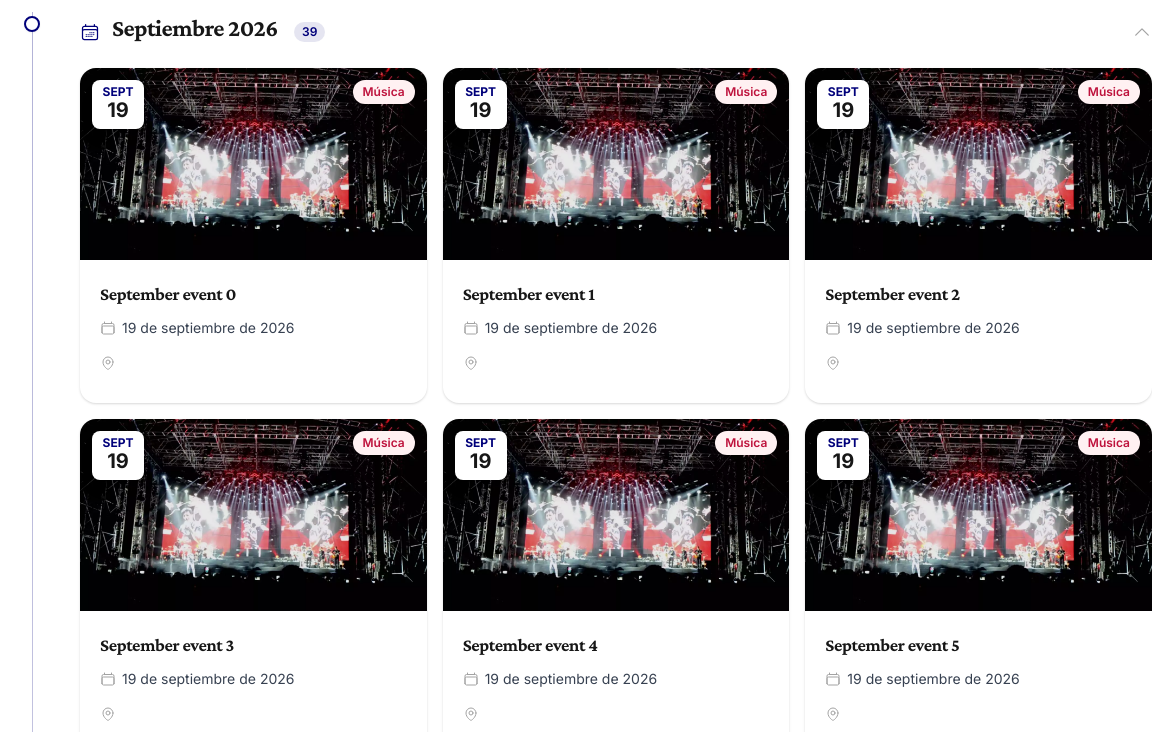
Test: shows every card in a large expanded month and removes collapsed links from navigation
Click the button "Septiembre 2026 39" at point(195, 28), box top-left (80, 12), bottom-right (1152, 52)
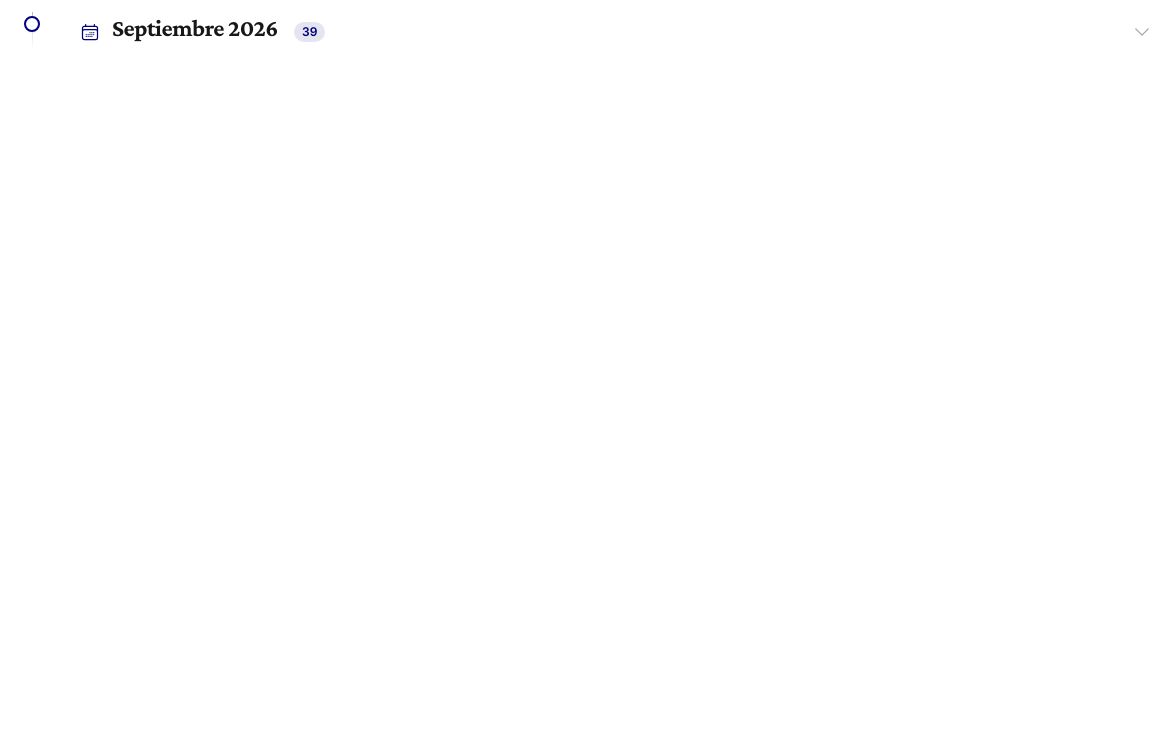
Expected: the link "SEPT 19 Música September event 0 19 de septiembre de 2026" is gone
